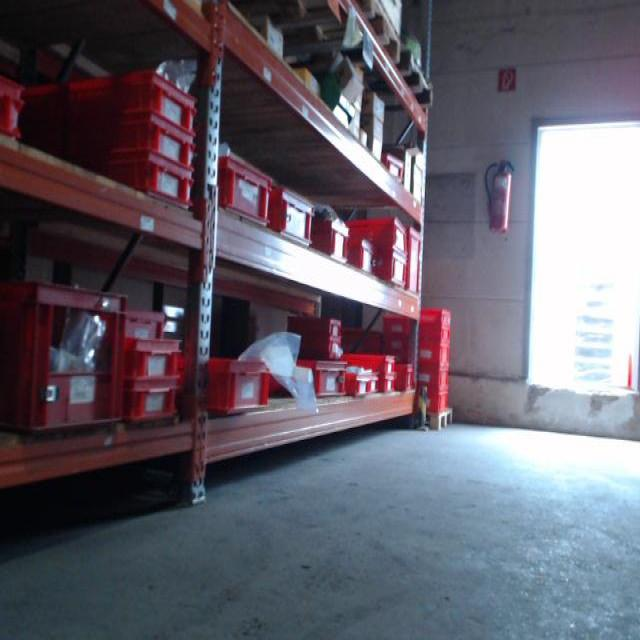pallet: (225, 2, 406, 80), (291, 48, 438, 116), (414, 402, 457, 433)
small_load_carrier: (1, 286, 122, 440), (21, 76, 202, 128), (60, 110, 196, 165), (190, 150, 273, 237), (91, 152, 198, 213), (203, 353, 272, 417), (270, 181, 315, 256), (124, 335, 185, 384), (349, 211, 410, 259), (284, 359, 351, 402), (308, 208, 350, 264), (124, 384, 182, 424), (2, 73, 35, 143), (116, 296, 167, 339), (345, 229, 379, 281), (406, 222, 425, 301), (341, 349, 394, 372), (291, 317, 342, 338), (381, 153, 406, 195), (299, 337, 342, 359), (417, 341, 451, 367), (382, 253, 406, 288), (417, 389, 450, 413), (408, 307, 453, 324), (417, 367, 451, 389), (417, 325, 454, 341), (348, 372, 369, 395), (396, 366, 415, 389), (381, 376, 399, 394), (369, 372, 381, 395)
